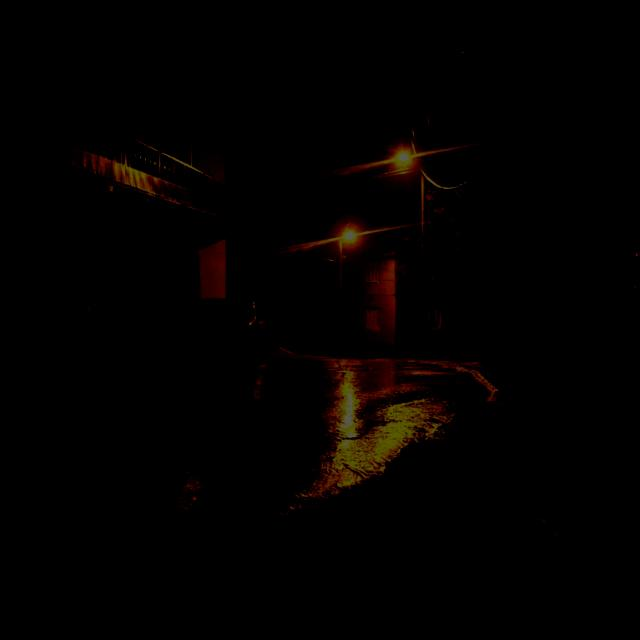Car: (180, 294, 272, 358)
